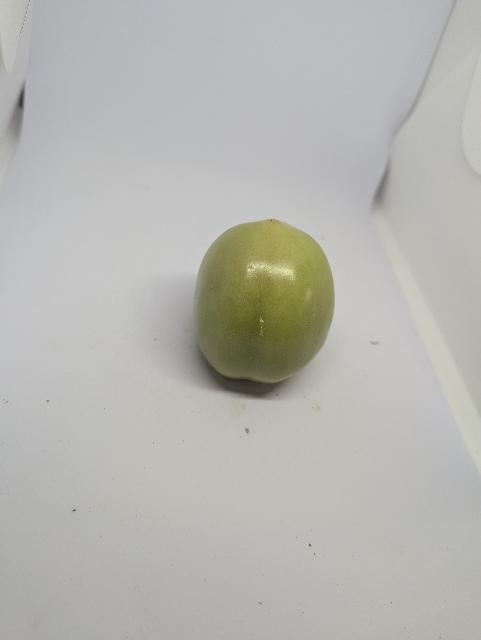green: (191, 216, 336, 386)
